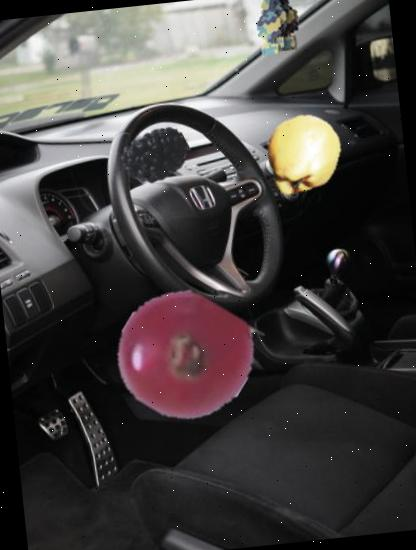Mulberry: (117, 118, 193, 194)
Quince: (257, 110, 349, 201)
Redcurrant: (110, 283, 257, 430)
